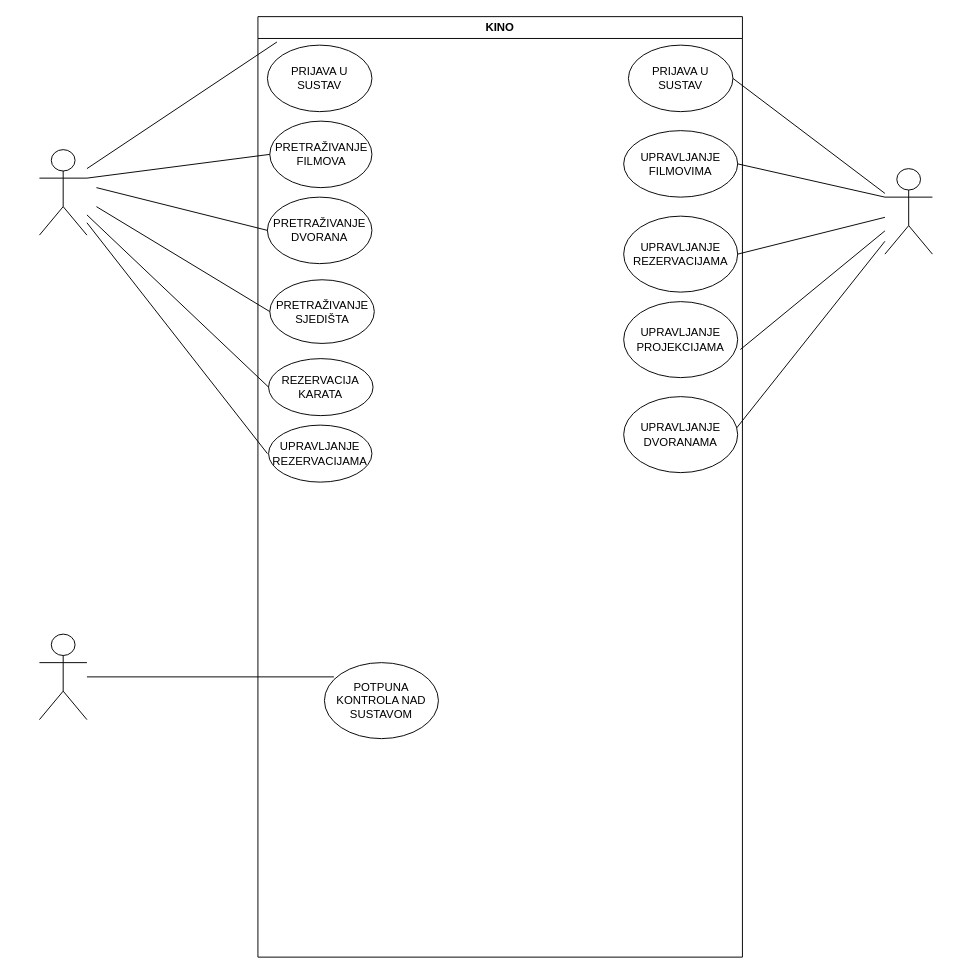
Image size: 961x974. Some labels were removed from this diagram. Here are the shapes that lost their labels. From the top down, the centre of each, then its label:
[62,192]: POSJETITELJ
[908,211]: KINO RADNIK
[62,676]: ADMINISTRATOR
